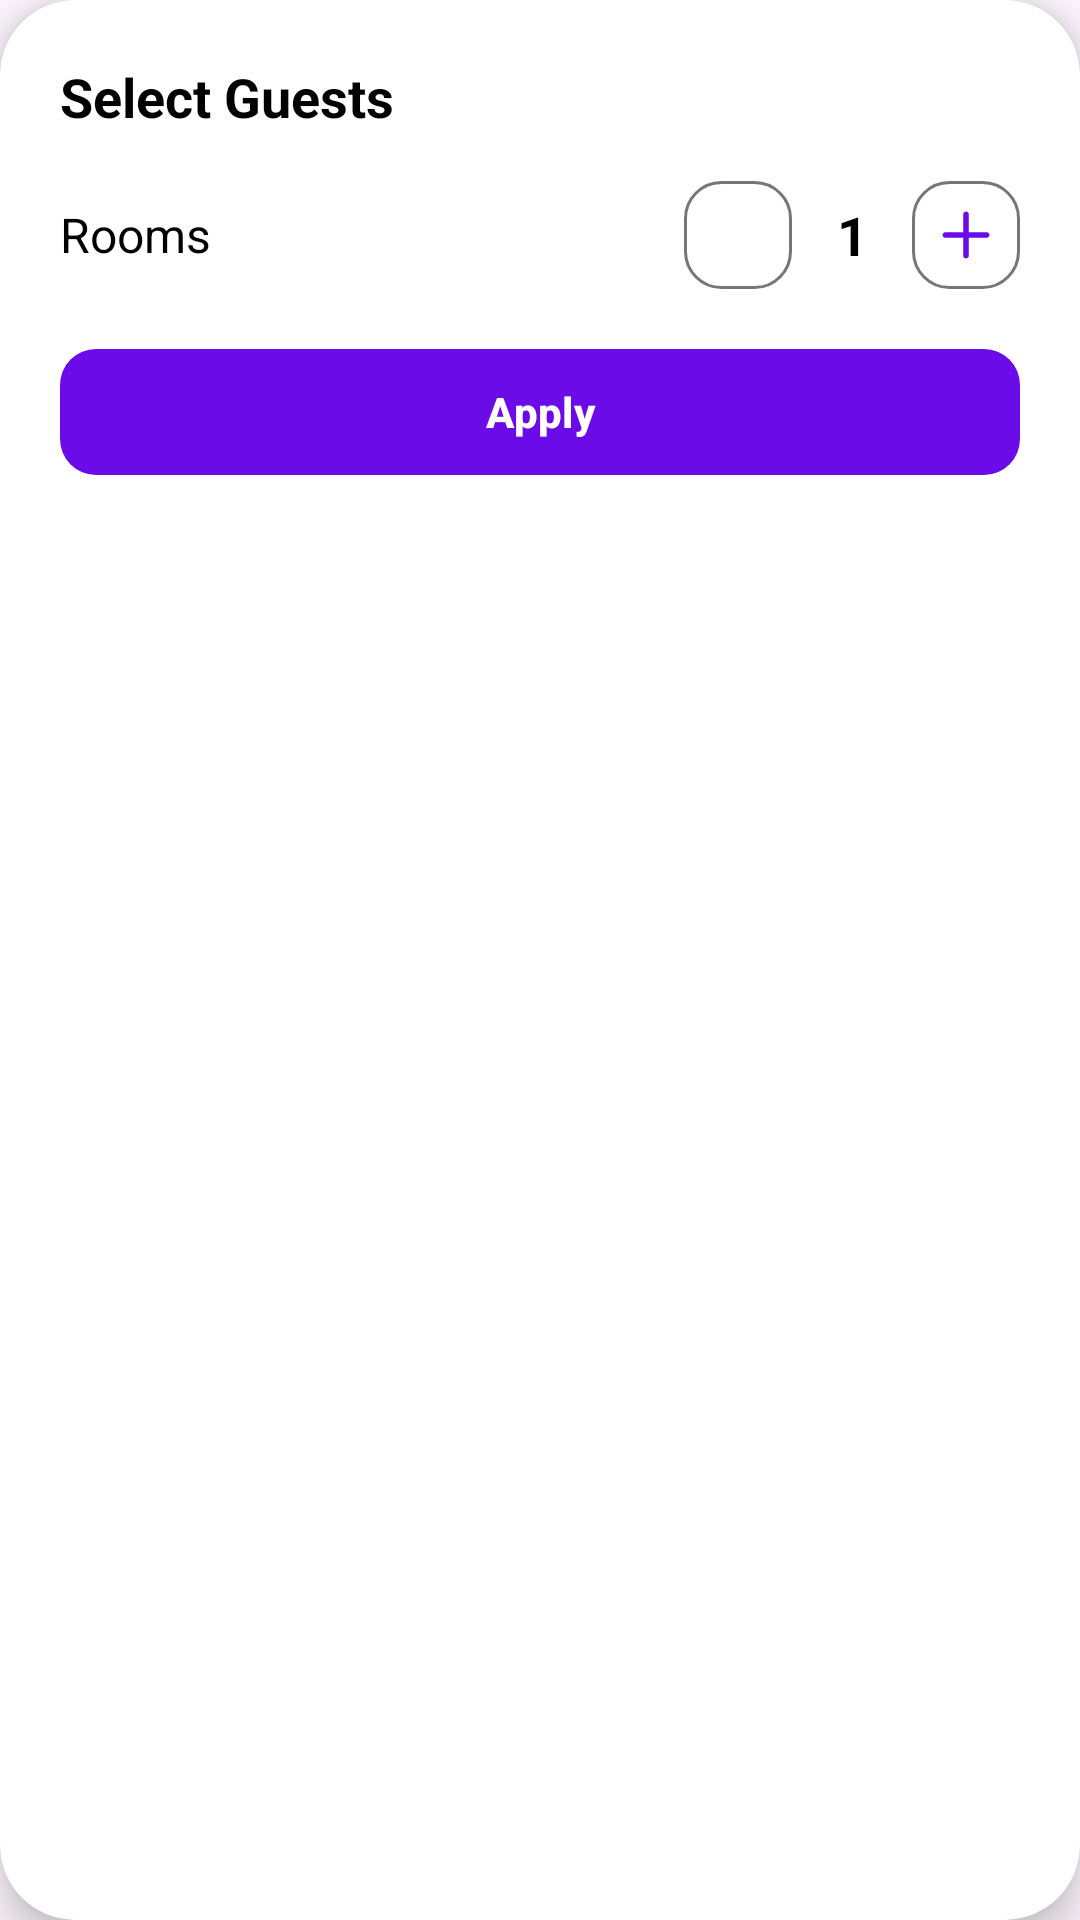

Where icons sit on this 1080px×1920px app screen, as [x1,y1,x2,y2]:
plus: [912,181,1020,289]
